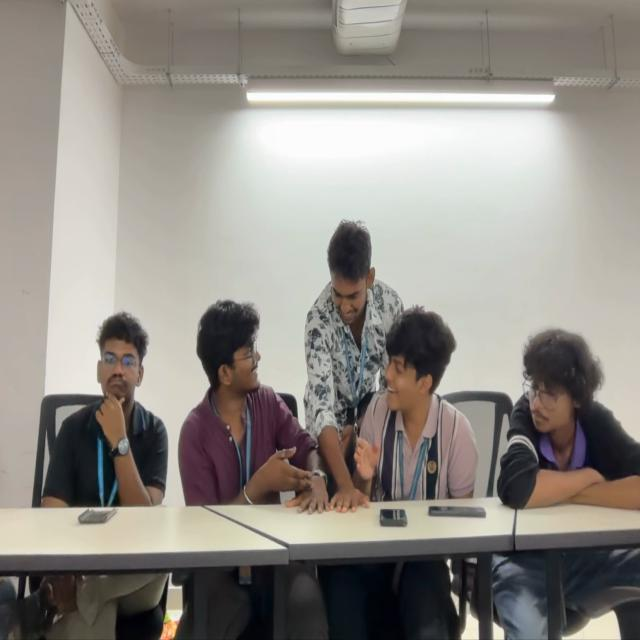Isolated: (498, 329, 640, 502), (44, 309, 166, 503)
socializing: (178, 220, 476, 503)
